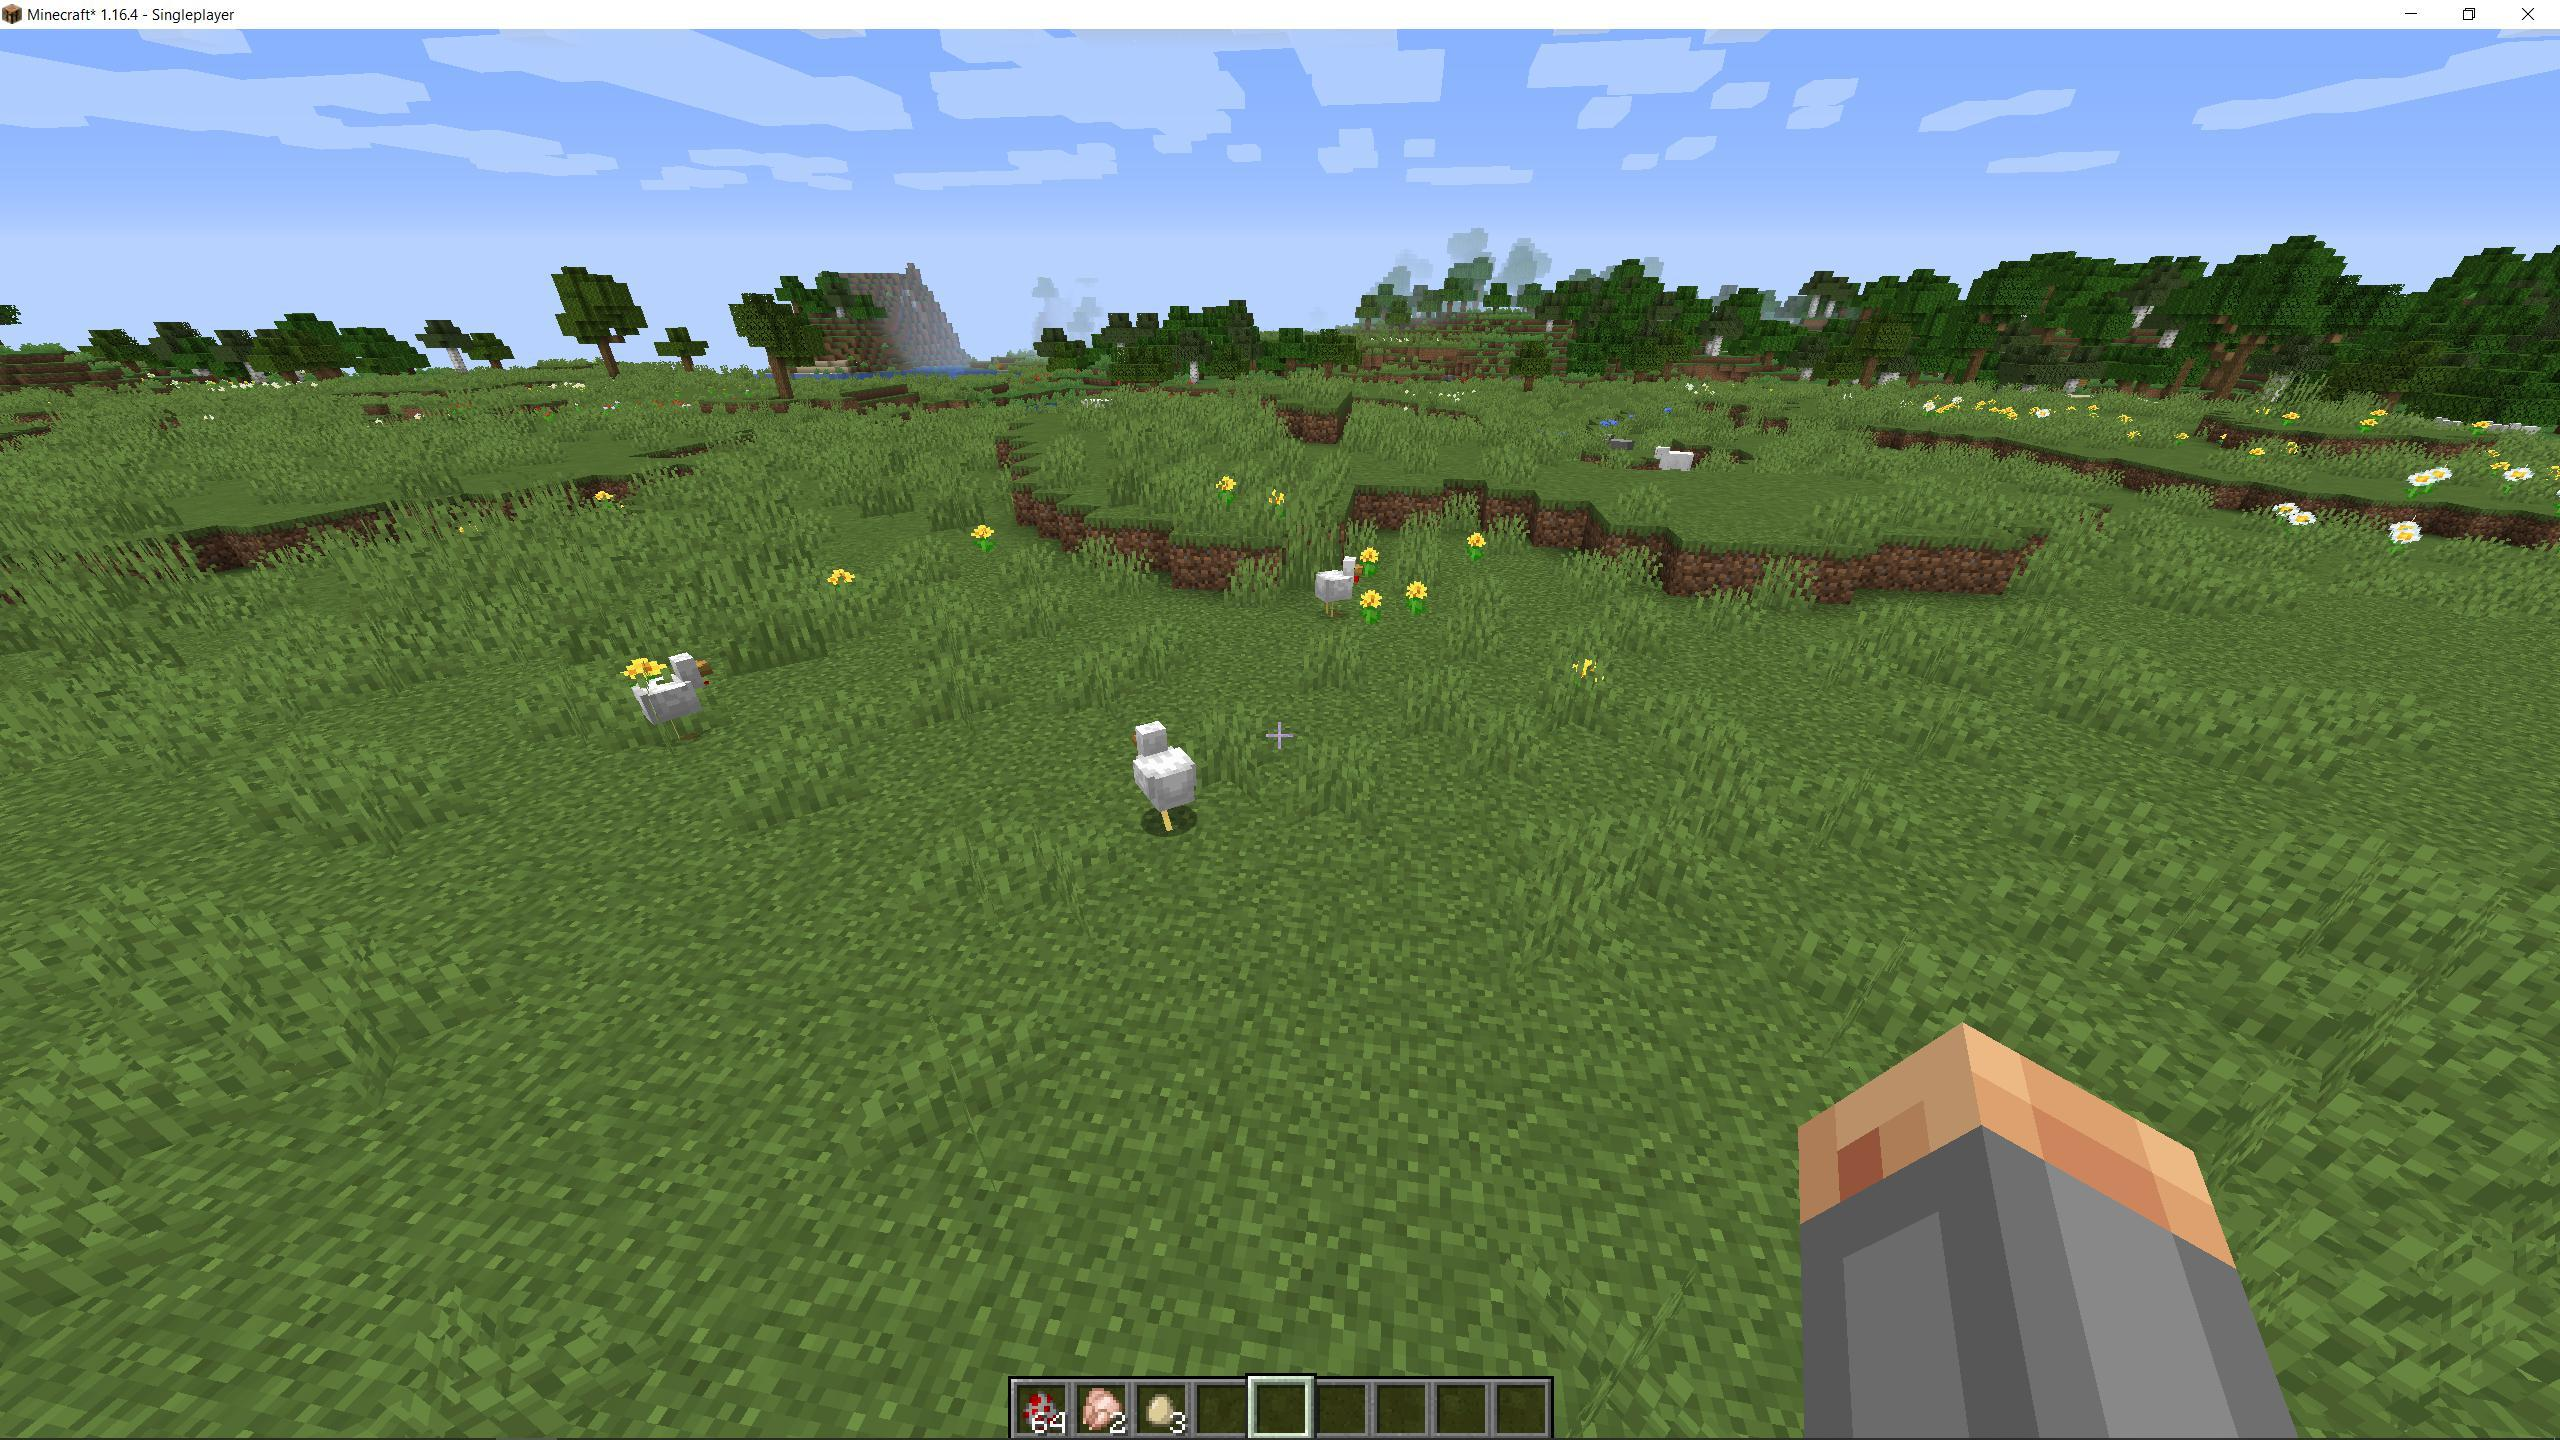chicken: (1125, 714, 1213, 839), (636, 645, 714, 742), (1303, 556, 1371, 622)
